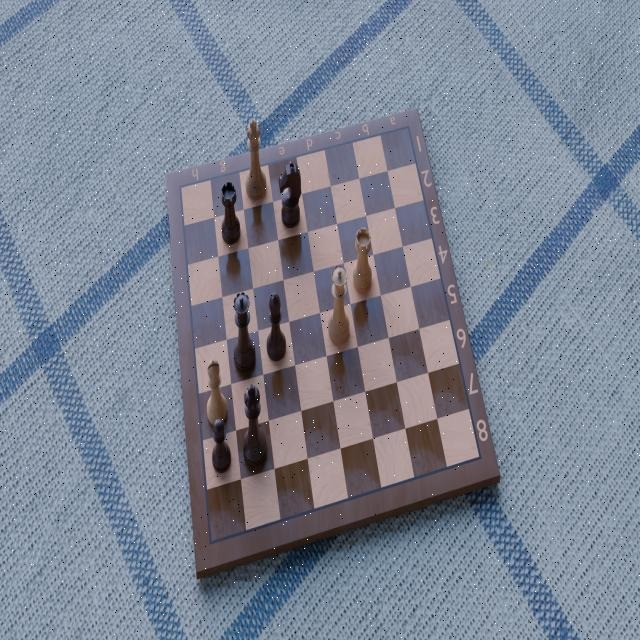black-bishop: (266, 291, 290, 364)
black-king: (241, 383, 268, 473)
black-knight: (278, 161, 302, 231)
black-pawn: (211, 417, 232, 475)
black-queen: (232, 291, 258, 376)
black-rook: (220, 178, 242, 246)
white-bishop: (206, 357, 230, 427)
white-king: (246, 116, 270, 202)
white-queen: (328, 266, 351, 349)
white-rook: (353, 224, 375, 296)
